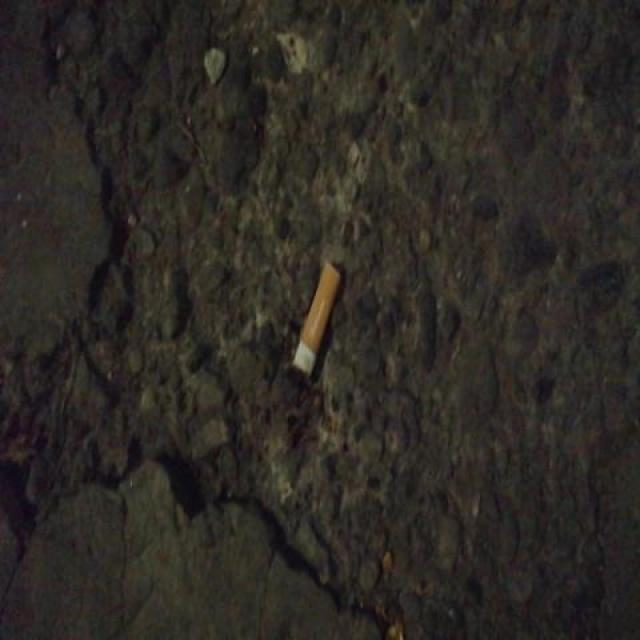non-organic waste: (290, 256, 346, 380)
